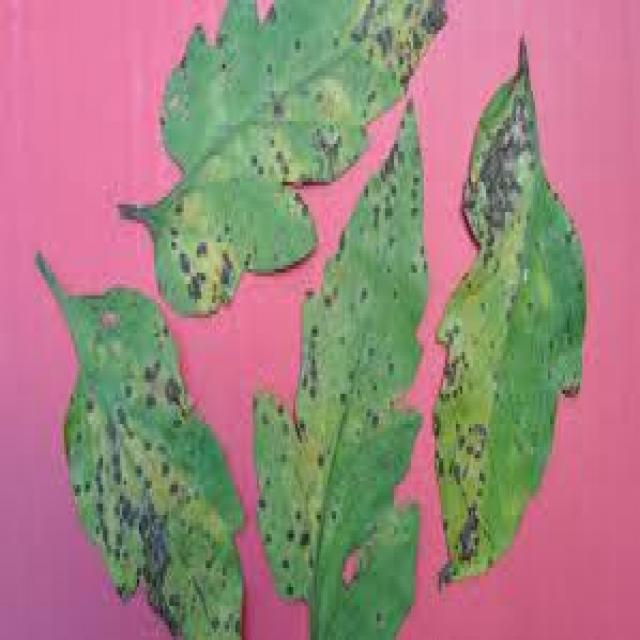black-spot: (8, 383, 235, 640), (294, 208, 438, 441), (458, 70, 559, 316)
